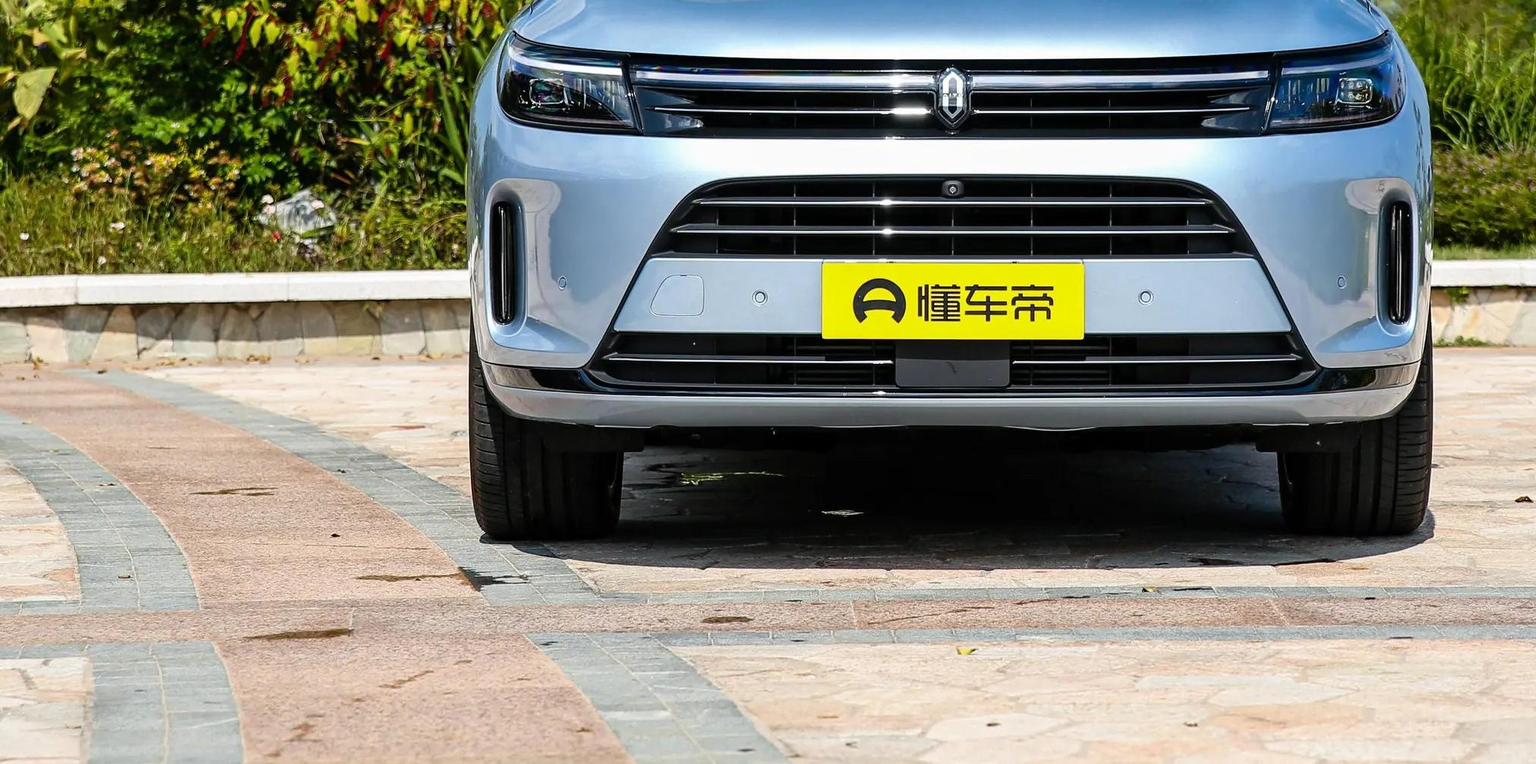AITO: (942, 73, 962, 117)
